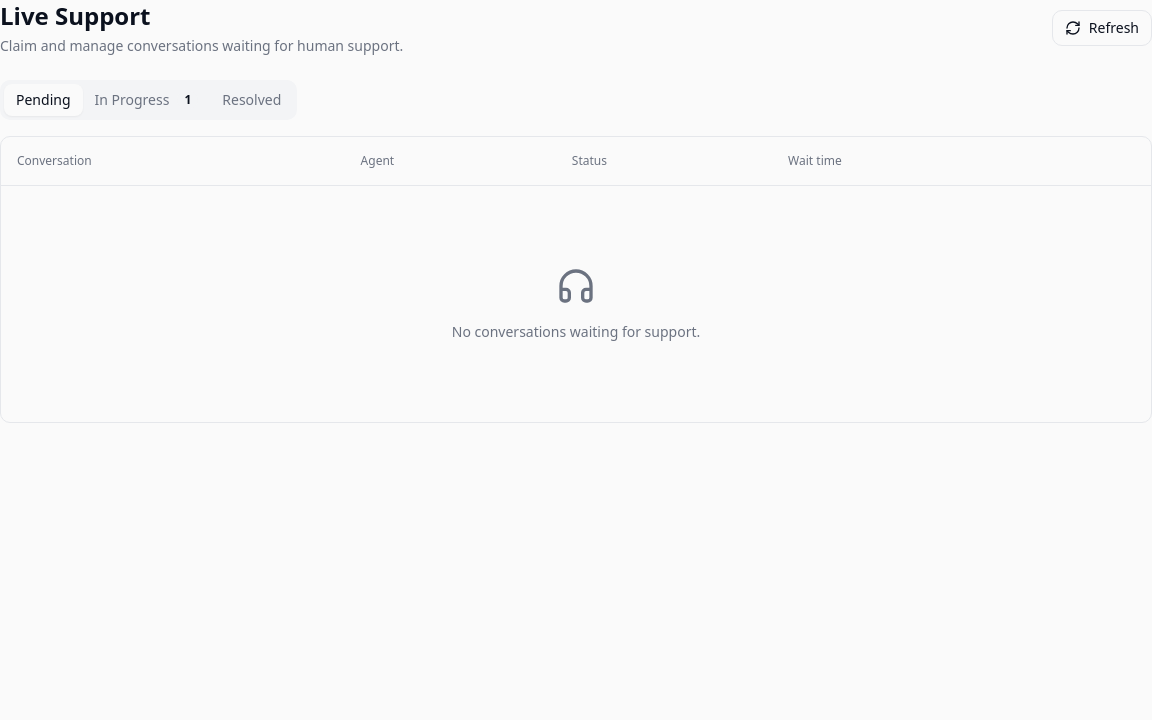
ReplyDialog › pollMerge_removesOptimisticAndKeepsRealMessages
Click the tab "In Progress 1" at (146, 100), box [82,84,210,116]
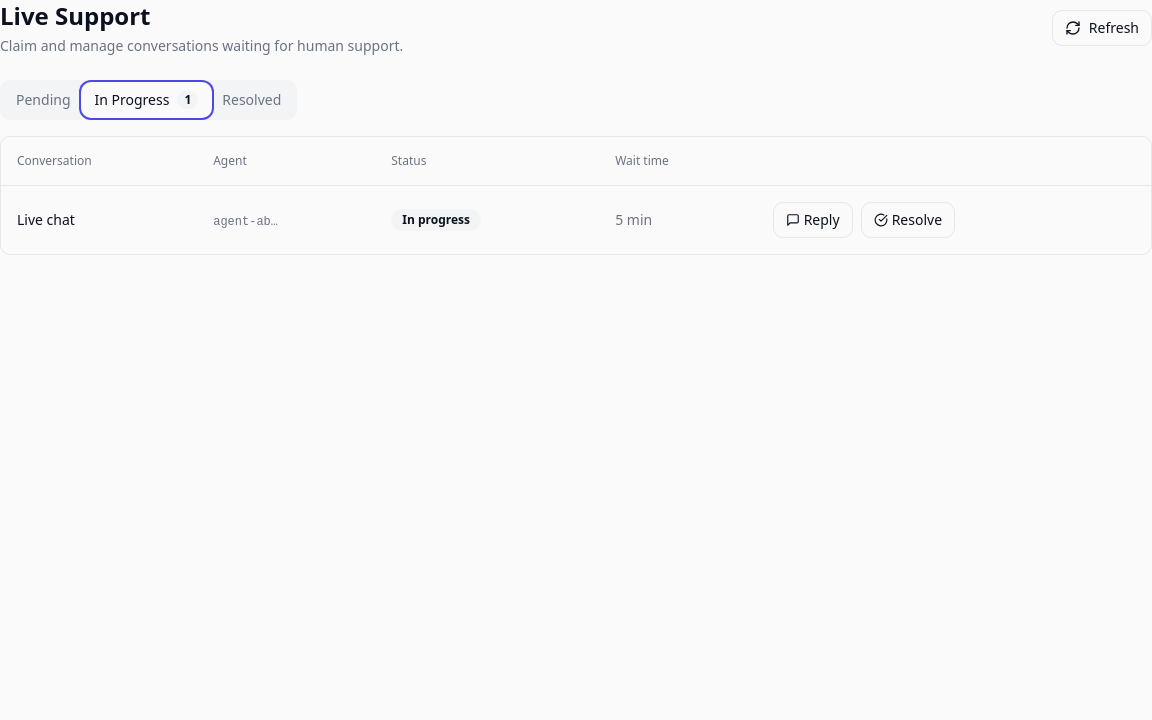
Click the button "Reply" at (813, 220), box [773,202,853,238]
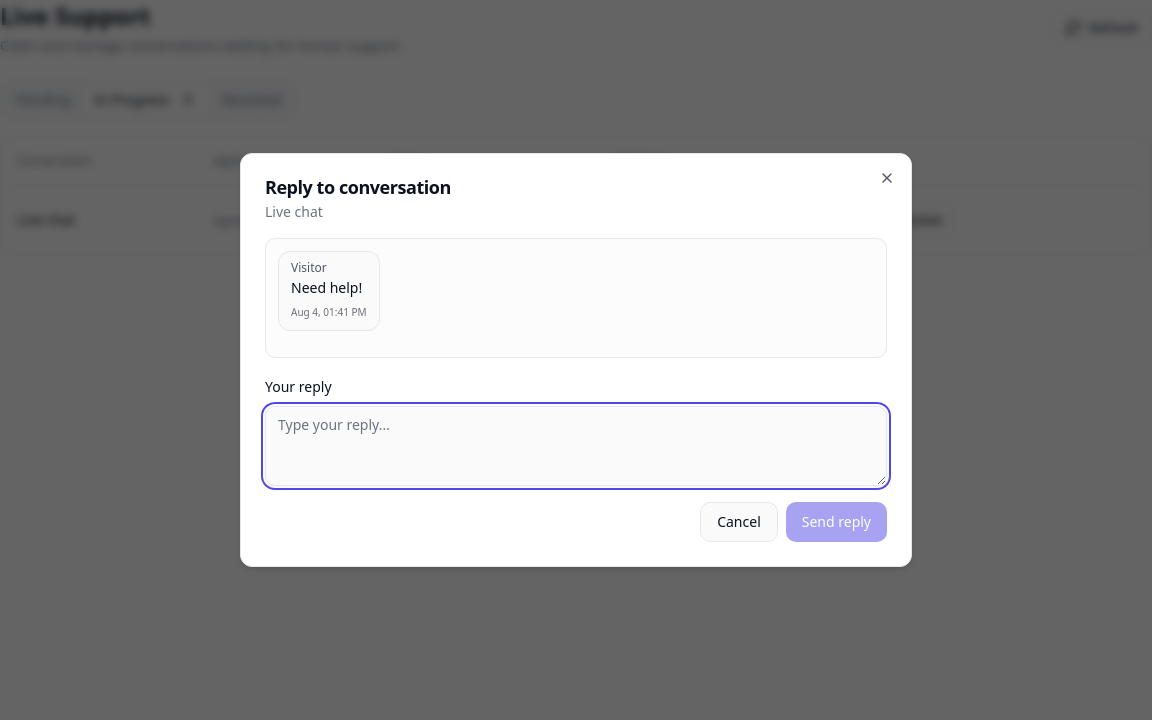
Result: the dialog is shown at [240,153,912,567]
Type "Optimistic reply" into the text box labelled "Your reply" at (576, 446), box [265,406,887,486]
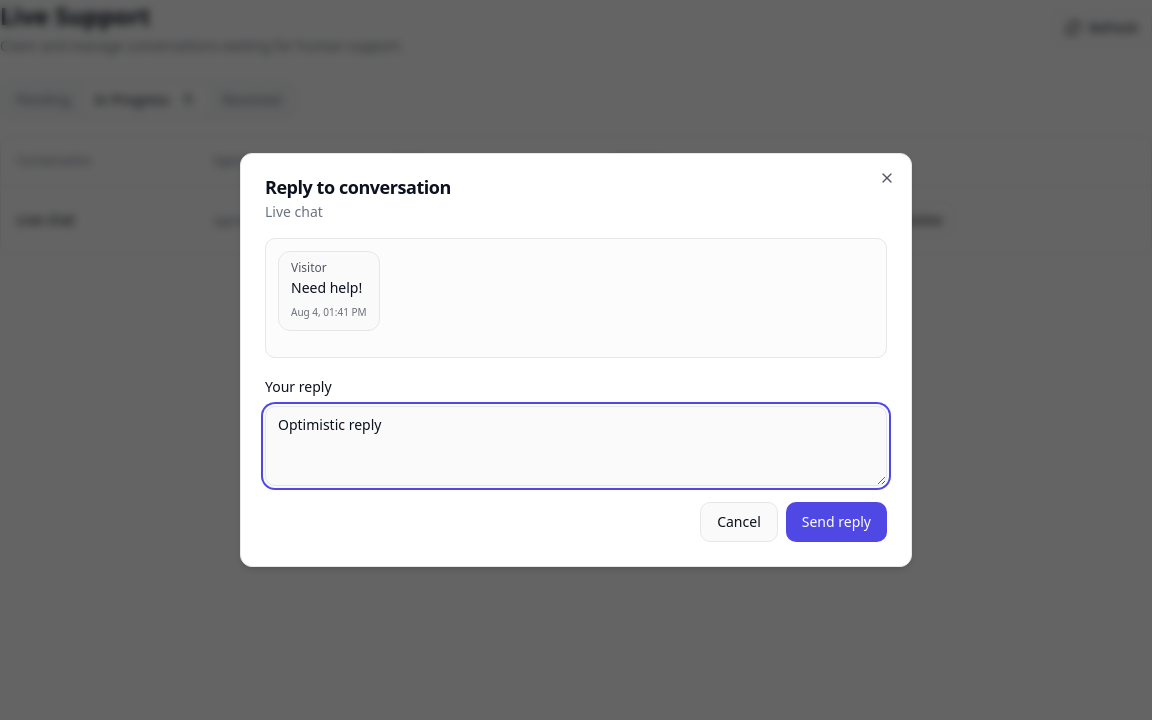
Click the button "Send reply" at (836, 522), box [786,502,887,542]
Wait 3000 ms
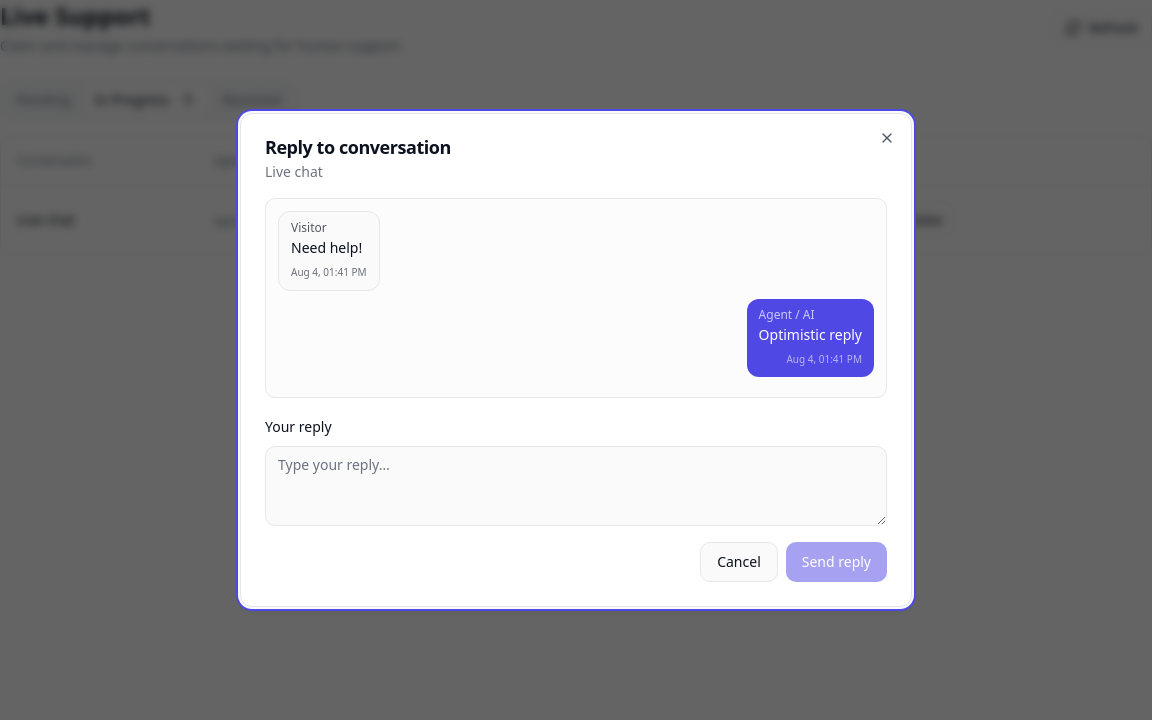
Result: the text "Optimistic reply" is shown once at [759,325,862,345]
